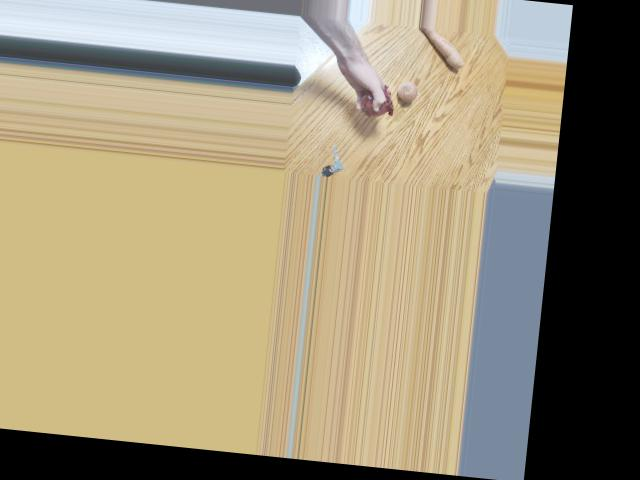onion: (393, 80, 419, 103)
